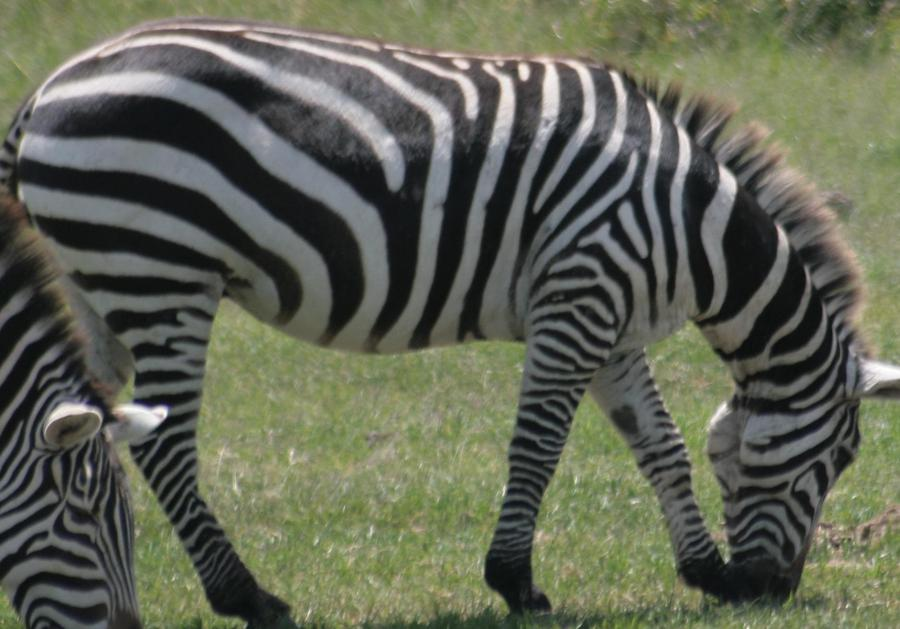zebra_plains: (30, 20, 686, 347)
